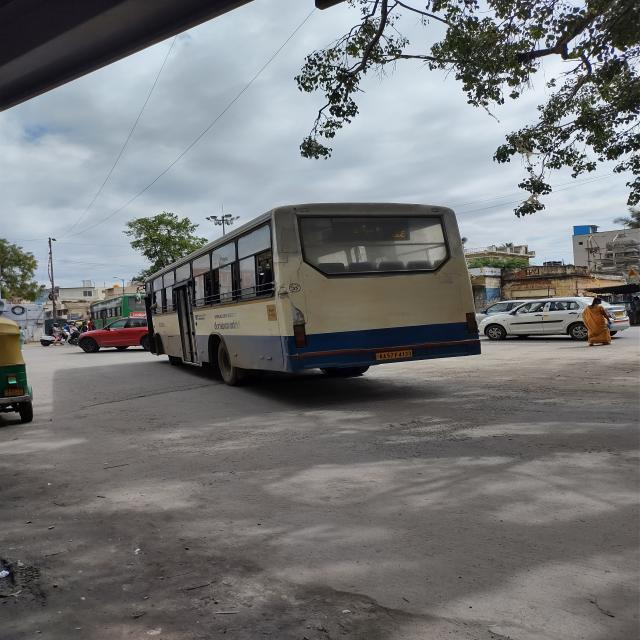bus: (137, 203, 473, 385)
display: (330, 217, 410, 242)
